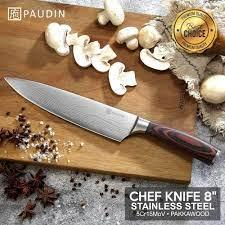knives: (3, 56, 218, 169)
